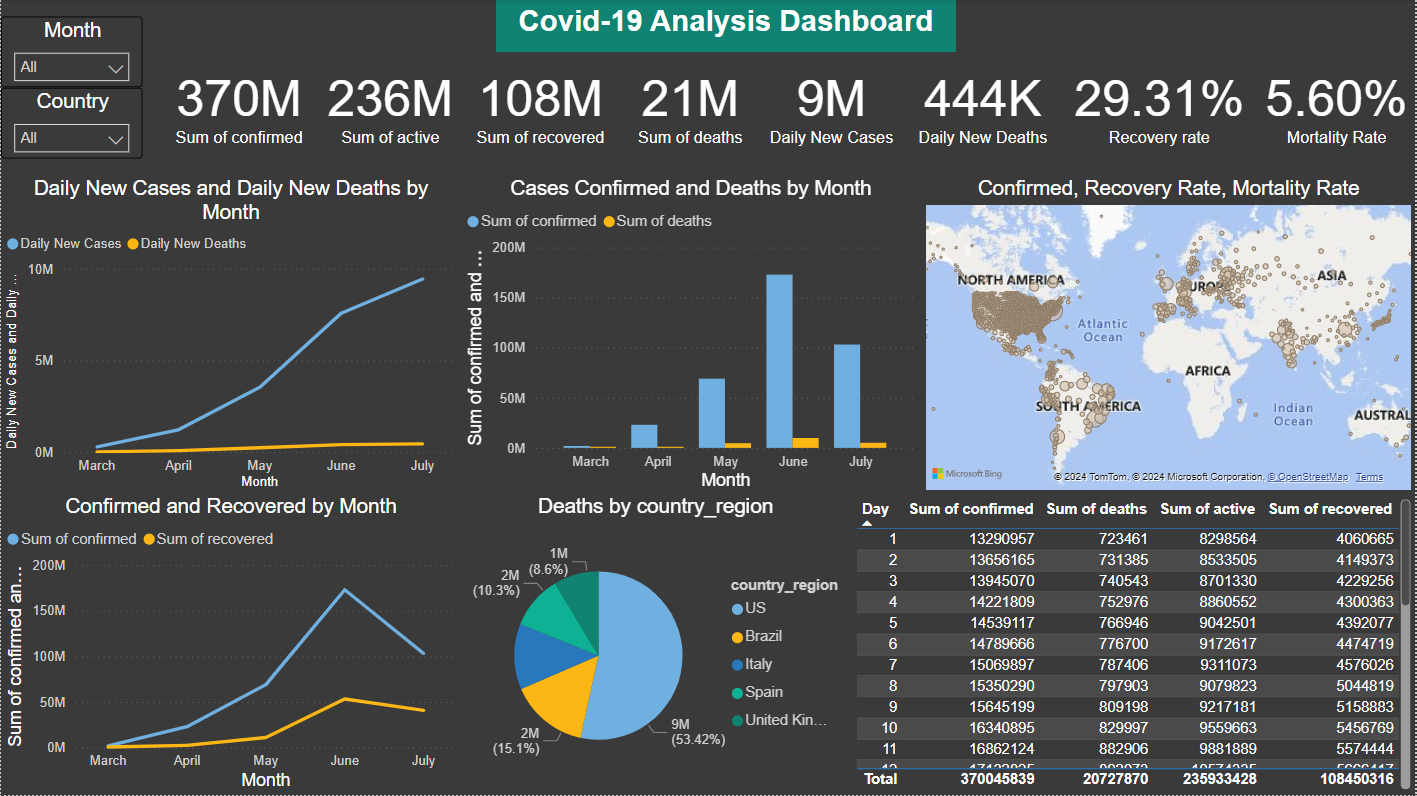

The dashboard page shown, as its layout file describes it:
{"tool":"powerbi","page":{"name":"Page 1","canvas":[1280,720],"ordinal":0},"visuals":[{"type":"card","fields":{"Values":["Sum(Covid Data set final bi.active)"]},"box":[288,48,128,96],"z":0},{"type":"card","fields":{"Values":["Sum(Covid Data set final bi.confirmed)"]},"box":[144,48,144,96],"z":1000},{"type":"card","fields":{"Values":["Sum(Covid Data set final bi.deaths)"]},"box":[560,48,128,96],"z":2000},{"type":"card","fields":{"Values":["Sum(Covid Data set final bi.recovered)"]},"box":[416,48,144,96],"z":3000},{"type":"card","fields":{"Values":["Covid Data set final bi.recovery rate"]},"box":[960,48,176,96],"z":4000},{"type":"card","fields":{"Values":["Covid Data set final bi.Mortality Rate"]},"box":[1136,48,144,96],"z":5000},{"type":"slicer","title":"Country","fields":{"Values":["Covid Data set final bi.country_region"]},"box":[0,80,128,64],"z":6000},{"type":"slicer","title":"Month","fields":{"Values":["Covid Data set final bi.date.Variation.Date Hierarchy.Month"]},"box":[0,16,128,64],"z":7000},{"type":"card","fields":{"Values":["Covid Data set final bi.Daily New Cases"]},"box":[688,48,128,96],"z":8000},{"type":"card","fields":{"Values":["Covid Data set final bi.Daily New Deaths"]},"box":[816,48,144,96],"z":9000},{"type":"tableEx","fields":{"Values":["Covid Data set final bi.date.Variation.Date Hierarchy.Day","Sum(Covid Data set final bi.confirmed)","Sum(Covid Data set final bi.deaths)","Sum(Covid Data set final bi.active)","Sum(Covid Data set final bi.recovered)"]},"box":[768,448,512,272],"z":10000},{"type":"map","title":"Confirmed, Recovery Rate, Mortality Rate","fields":{"Size":["Sum(Covid Data set final bi.confirmed)"],"Y":["Covid Data set final bi.latitude"],"X":["Covid Data set final bi.longitude"]},"box":[832,160,448,288],"z":11000},{"type":"lineChart","fields":{"Category":["Covid Data set final bi.date.Variation.Date Hierarchy.Month"],"Y":["Covid Data set final bi.Daily New Cases","Covid Data set final bi.Daily New Deaths"]},"box":[0,160,416,288],"z":12000},{"type":"lineChart","title":"Confirmed and Recovered by Month","fields":{"Y":["Sum(Covid Data set final bi.confirmed)","Sum(Covid Data set final bi.recovered)"],"Category":["Covid Data set final bi.date.Variation.Date Hierarchy.Month"]},"box":[0,448,416,272],"z":13000},{"type":"textbox","box":[448,0,416,48],"z":14000},{"type":"clusteredColumnChart","title":"Cases Confirmed and  Deaths by Month","fields":{"Category":["Covid Data set final bi.Month"],"Y":["Sum(Covid Data set final bi.confirmed)","Sum(Covid Data set final bi.deaths)"]},"box":[416,160,416,288],"z":15000},{"type":"pieChart","title":"Deaths by country_region","fields":{"Category":["Covid Data set final bi.country_region"],"Y":["Sum(Covid Data set final bi.deaths)"]},"box":[416,448,352,272],"z":16000}]}

Visuals, with their boxes in screenshot pixels (x1, y1, x2, y2), scaled from the page's 1280x720 canvas onto the 1417x796 screenshot:
card - Sum(Covid Data set final bi.active): crop(319, 53, 461, 159)
card - Sum(Covid Data set final bi.confirmed): crop(159, 53, 319, 159)
card - Sum(Covid Data set final bi.deaths): crop(620, 53, 762, 159)
card - Sum(Covid Data set final bi.recovered): crop(461, 53, 620, 159)
card - Covid Data set final bi.recovery rate: crop(1063, 53, 1258, 159)
card - Covid Data set final bi.Mortality Rate: crop(1258, 53, 1416, 159)
"Country" slicer: crop(0, 88, 142, 159)
"Month" slicer: crop(0, 18, 142, 88)
card - Covid Data set final bi.Daily New Cases: crop(762, 53, 903, 159)
card - Covid Data set final bi.Daily New Deaths: crop(903, 53, 1063, 159)
tableEx - Covid Data set final bi.date.Variation.Date Hierarchy.Day x Sum(Covid Data set final bi.confirmed): crop(850, 495, 1416, 795)
"Confirmed, Recovery Rate, Mortality Rate" map: crop(921, 177, 1416, 495)
lineChart - Covid Data set final bi.date.Variation.Date Hierarchy.Month x Covid Data set final bi.Daily New Cases: crop(0, 177, 461, 495)
"Confirmed and Recovered by Month" lineChart: crop(0, 495, 461, 795)
textbox: crop(496, 0, 956, 53)
"Cases Confirmed and  Deaths by Month" clusteredColumnChart: crop(461, 177, 921, 495)
"Deaths by country_region" pieChart: crop(461, 495, 850, 795)
